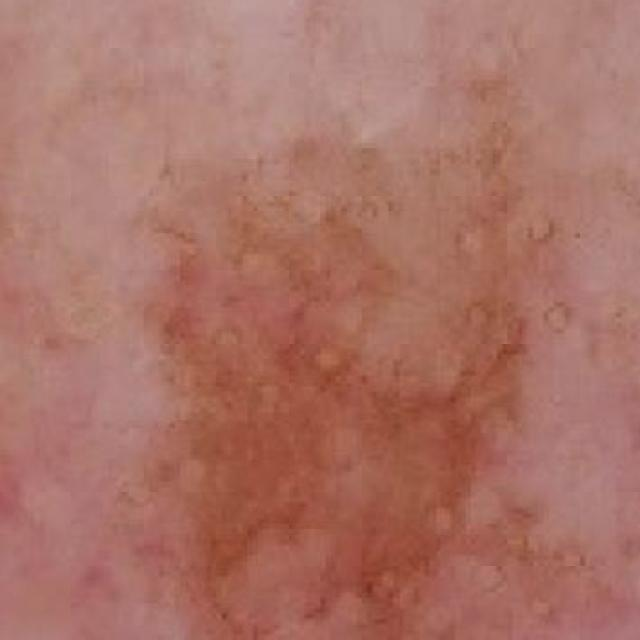AKIEC: (0, 27, 585, 640)
